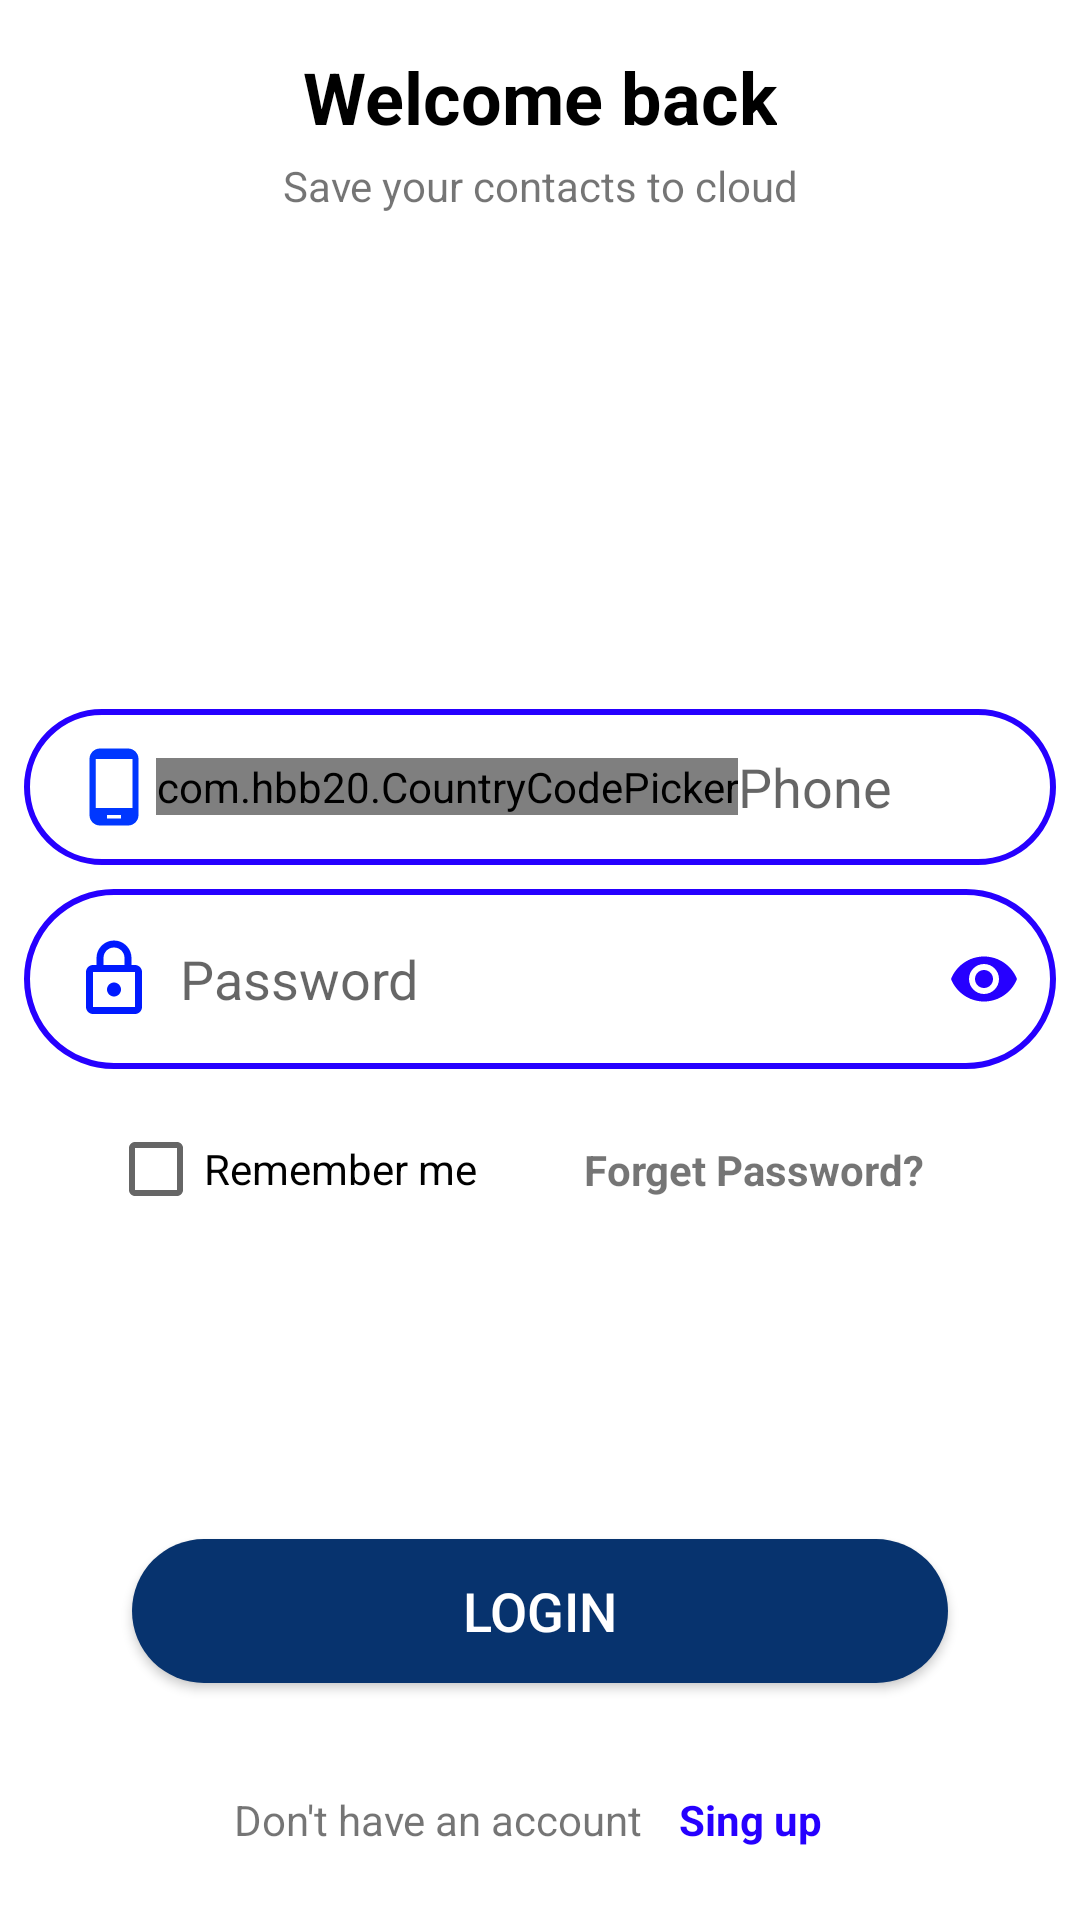

Locate icon controls on the screen. Image size 1080 × 1920, boxes as [x1,y1,x2,y2].
phone: [89,748,139,826]
